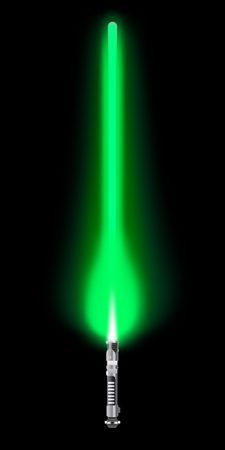lightsaber: (86, 0, 120, 434)
